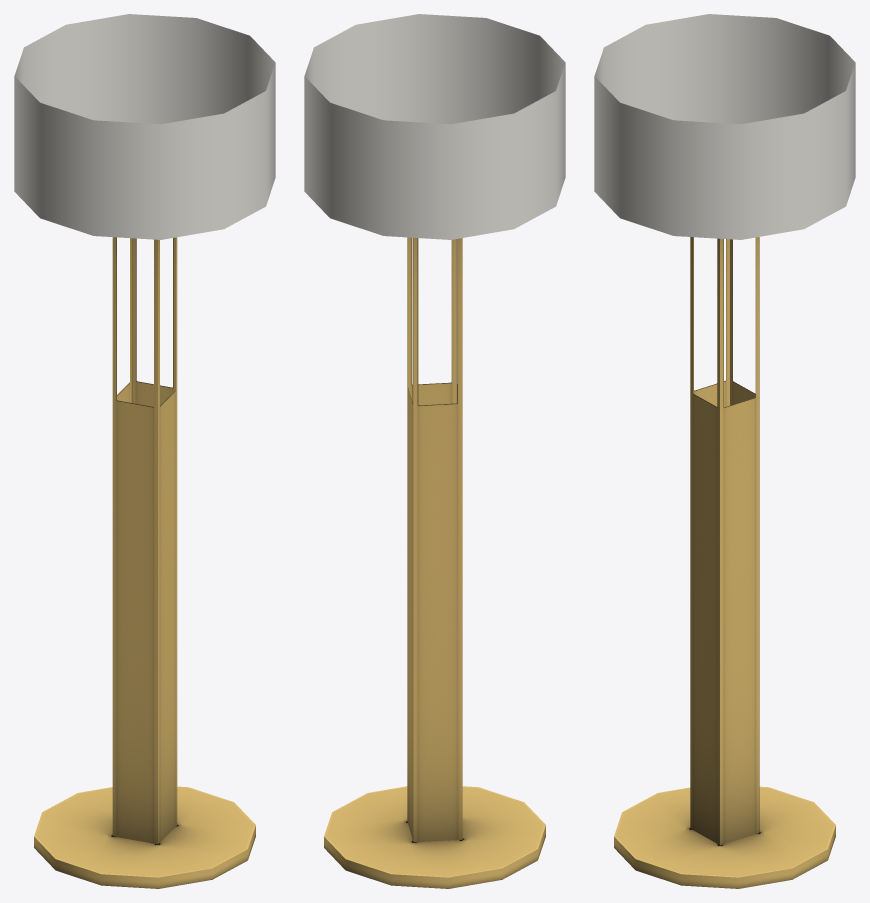
The model's file is Lamp.fbx.
The picture shows the model from 3 angles, left to right: view 1: azimuth 30°, elevation 25°; view 2: azimuth 150°, elevation 25°; view 3: azimuth 270°, elevation 25°; orthographic projection.
Parts seen in each view (by area): view 1: Lamp; view 2: Lamp; view 3: Lamp.
Part boxes in pixels (x1,y1,x2,y2): Lamp: (14,14,275,888); Lamp: (304,14,565,888); Lamp: (594,14,855,888).
Size of the model in its own units: 4.77 by 15.57 by 4.77.
2 materials, 1 textured.
